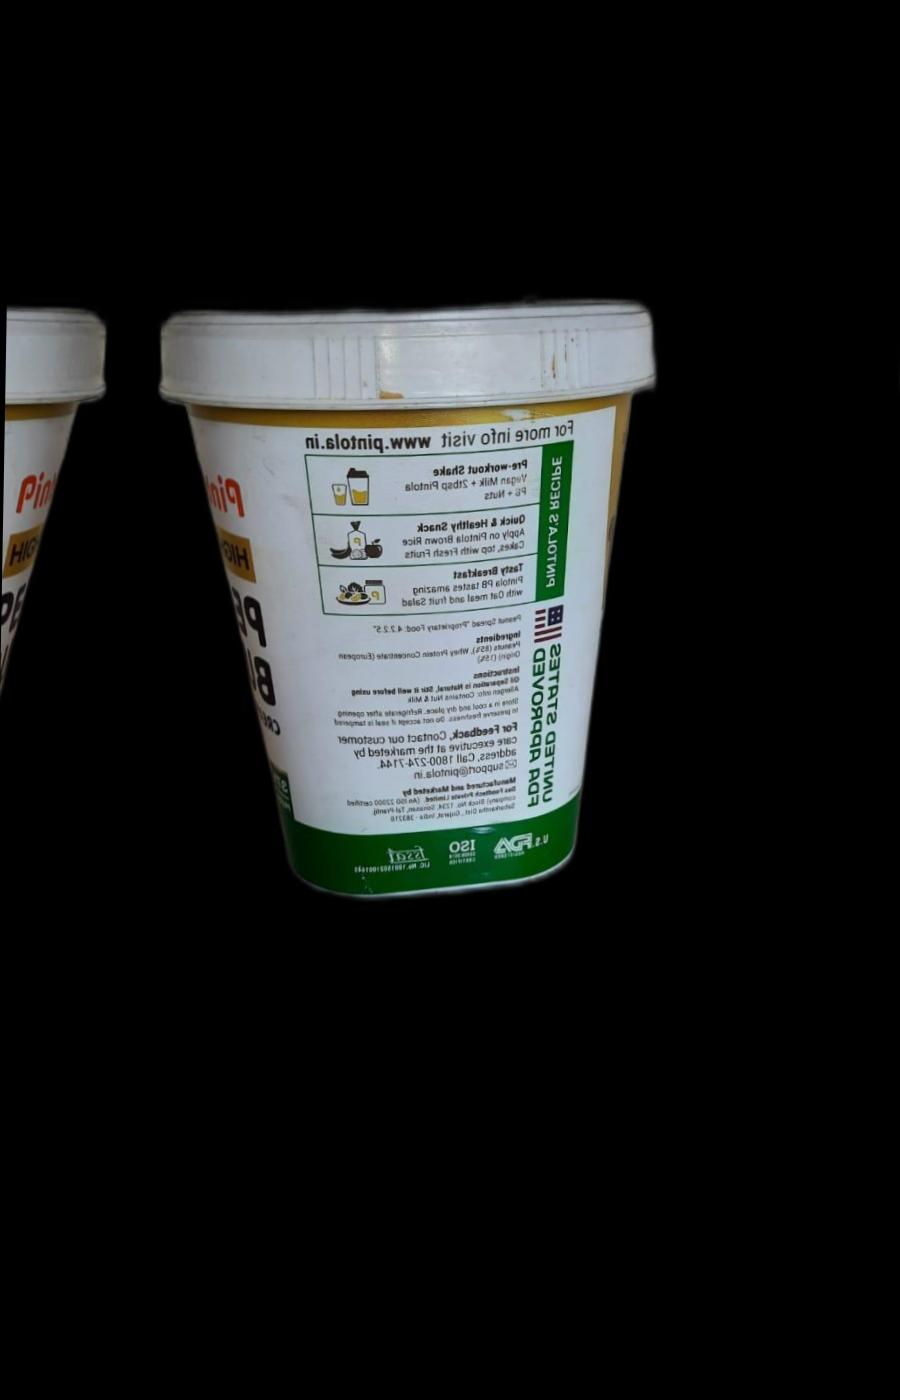Pintola High Protein Peanut Butter-510 gm-: (142, 270, 662, 908), (0, 267, 116, 899)
